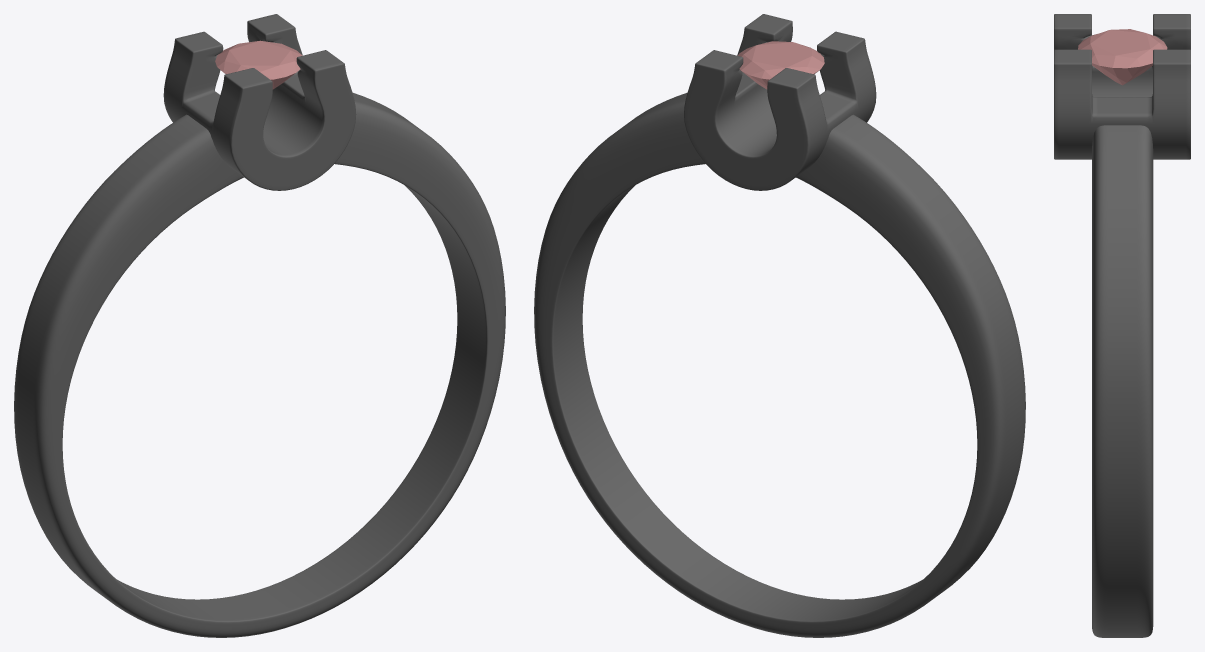
The model's file is ring.glb.
3 views of the same model, side by side, from view 1: azimuth 30°, elevation 25°; view 2: azimuth 150°, elevation 25°; view 3: azimuth 270°, elevation 25° (orthographic).
Visible parts, largest first — view 1: ring0005; view 2: ring0005; view 3: ring0005.
Part boxes in pixels (x1,y1,x2,y2): ring0005: (14,14,505,637); ring0005: (534,14,1025,637); ring0005: (1054,14,1190,637).
Bounding box in the file's own units: 18.1 × 21.11 × 4.56.
